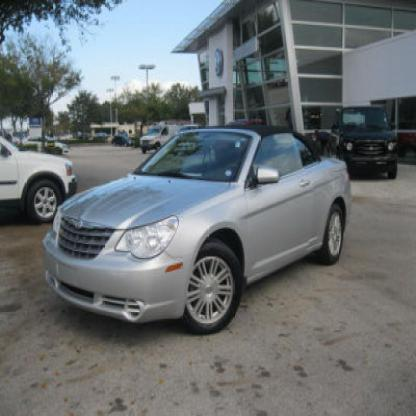car: (40, 130, 350, 340)
